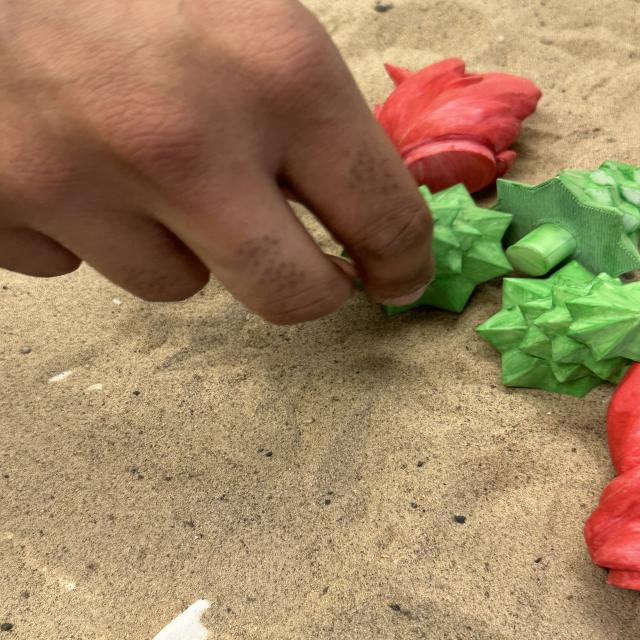fire: (371, 55, 543, 195), (579, 358, 640, 594)
tree: (474, 260, 638, 398), (352, 181, 514, 319), (491, 160, 640, 276)
